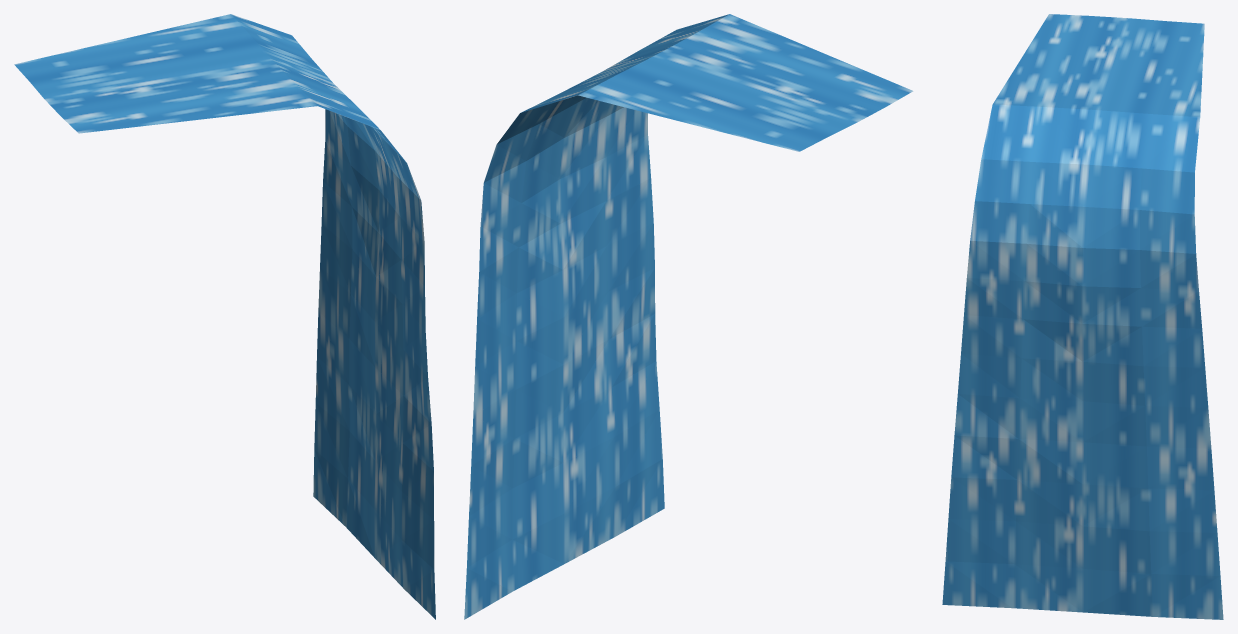
Rendered from Colony_Meadow_Falls.fbx.
3 renders of one model, left to right at view 1: azimuth 30°, elevation 25°; view 2: azimuth 150°, elevation 25°; view 3: azimuth 270°, elevation 25°, orthographic. The views are drawn at different scales.
Parts seen in each view (by area): view 1: Colony_Meadow_Falls.001; view 2: Colony_Meadow_Falls.001; view 3: Colony_Meadow_Falls.001.
Part boxes in pixels (x1=…): Colony_Meadow_Falls.001: x1=14, y1=14, x2=435, y2=619; Colony_Meadow_Falls.001: x1=464, y1=14, x2=913, y2=619; Colony_Meadow_Falls.001: x1=942, y1=14, x2=1223, y2=619.
Size of the model in its own units: 3.43 by 5.09 by 2.81.
